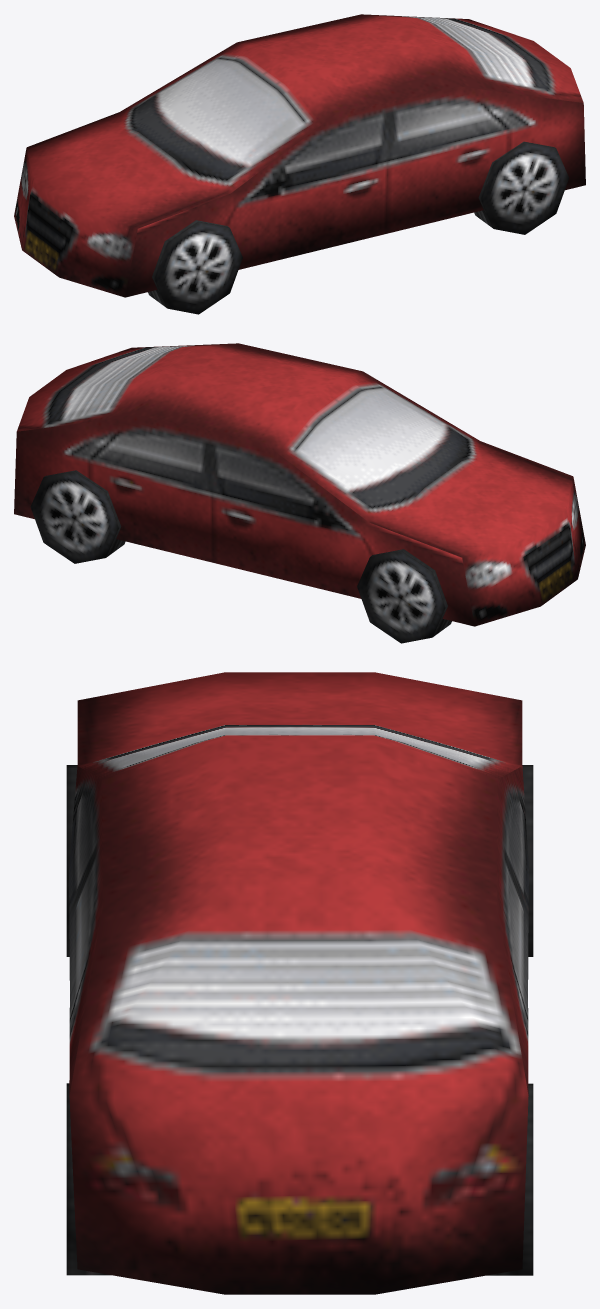
Rendered from car0.fbx.
The picture shows the model from 3 angles, top to bottom: view 1: azimuth 30°, elevation 25°; view 2: azimuth 150°, elevation 25°; view 3: azimuth 270°, elevation 25°; orthographic projection. The views are drawn at different scales.
Parts seen in each view (by area): view 1: car0; view 2: car0; view 3: car0.
Part boxes in pixels (x1=…): car0: x1=14, y1=14, x2=585, y2=314; car0: x1=14, y1=343, x2=585, y2=643; car0: x1=66, y1=672, x2=533, y2=1294.
Size of the model in its own units: 467 by 183 by 152.
1 material, 1 textured.
